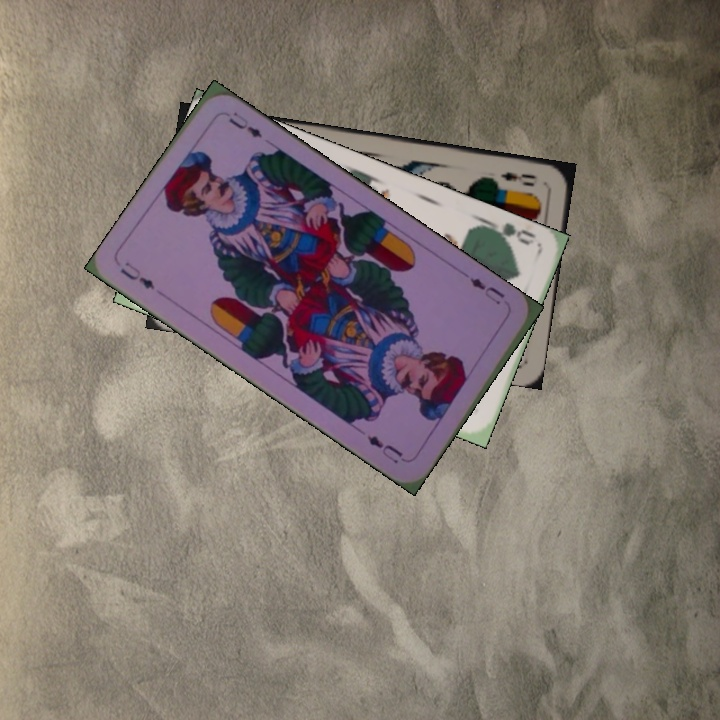EO: (497, 167, 540, 189)
EU: (461, 270, 507, 307), (116, 257, 158, 293)
GO: (481, 216, 539, 250)
